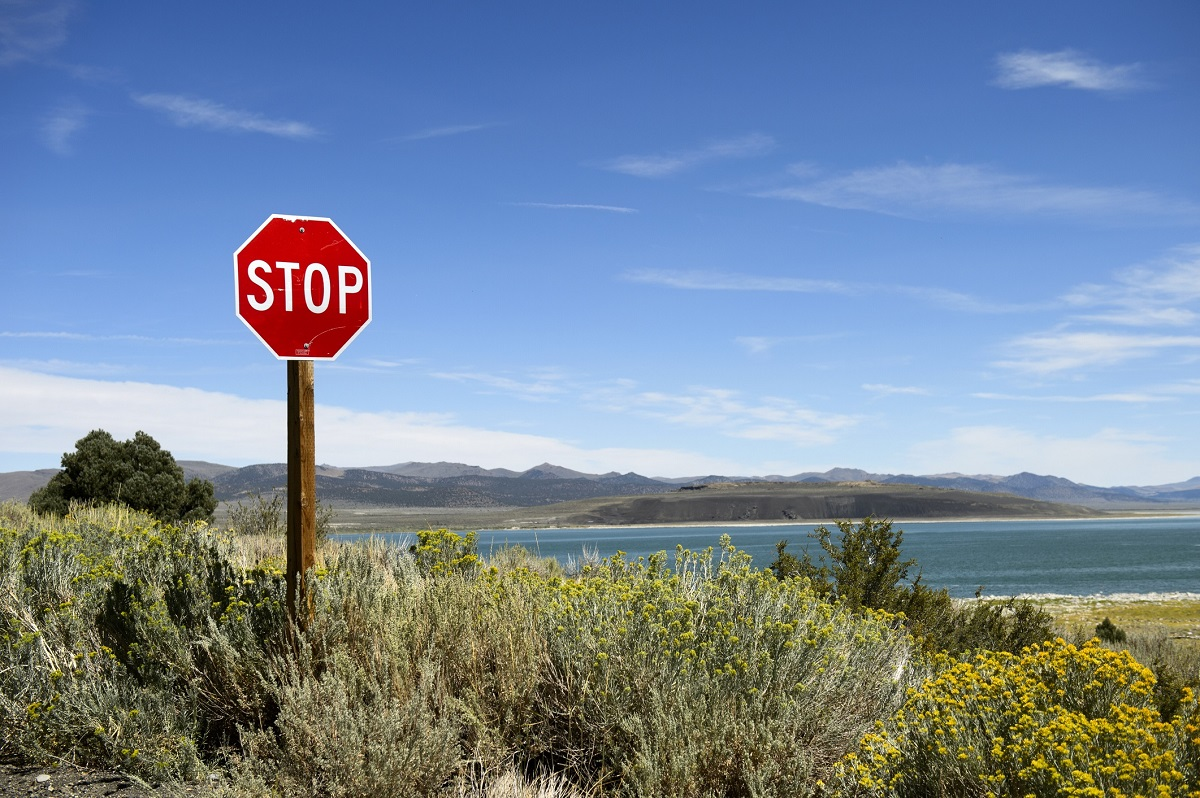stop_sign: (235, 213, 370, 359)
